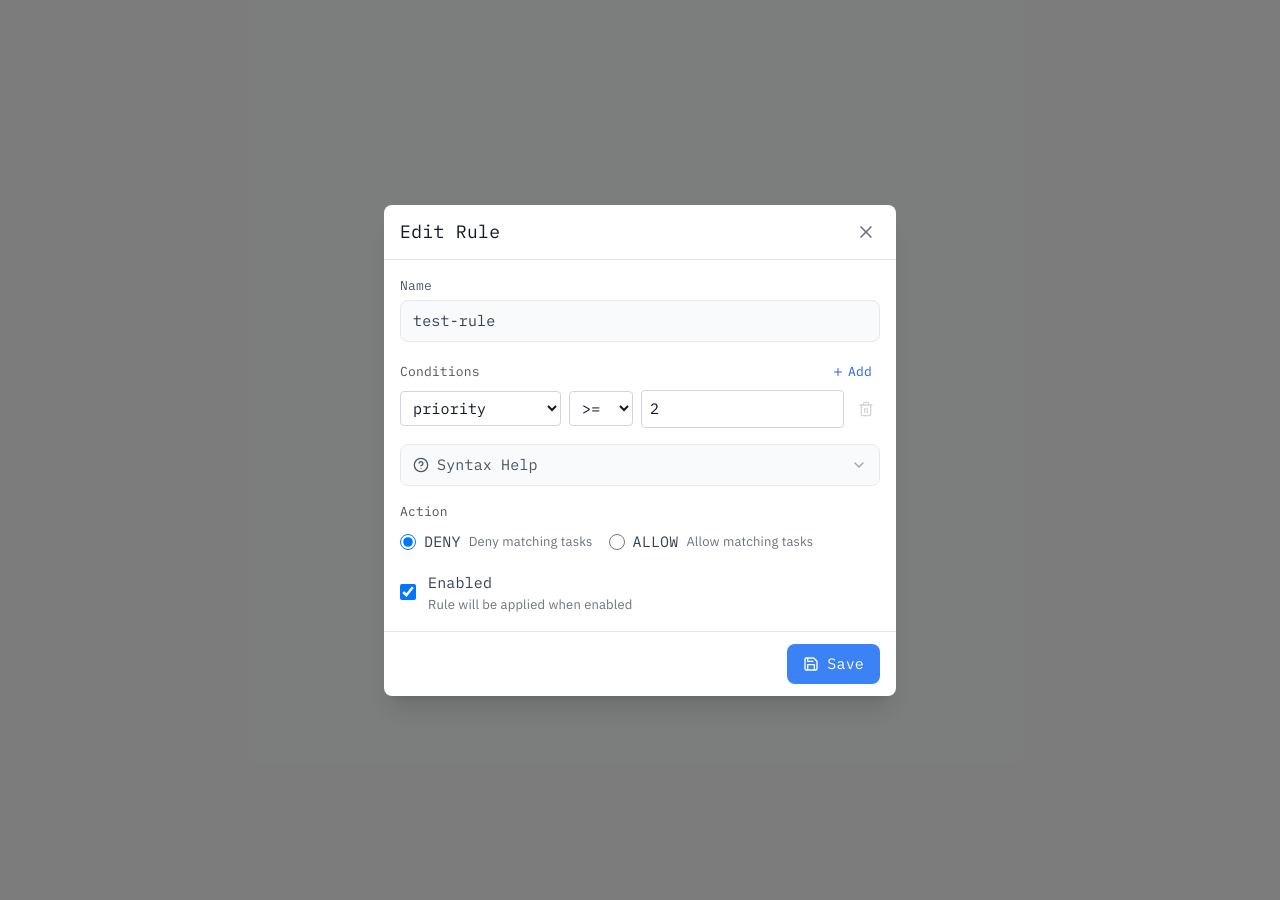
Test case: EditRuleModal › syntax help toggle › collapses syntax help when clicked again
The width and height of the screenshot is (1280, 900).
Click the button "Syntax Help" at (487, 464), box [401,444,879,484]
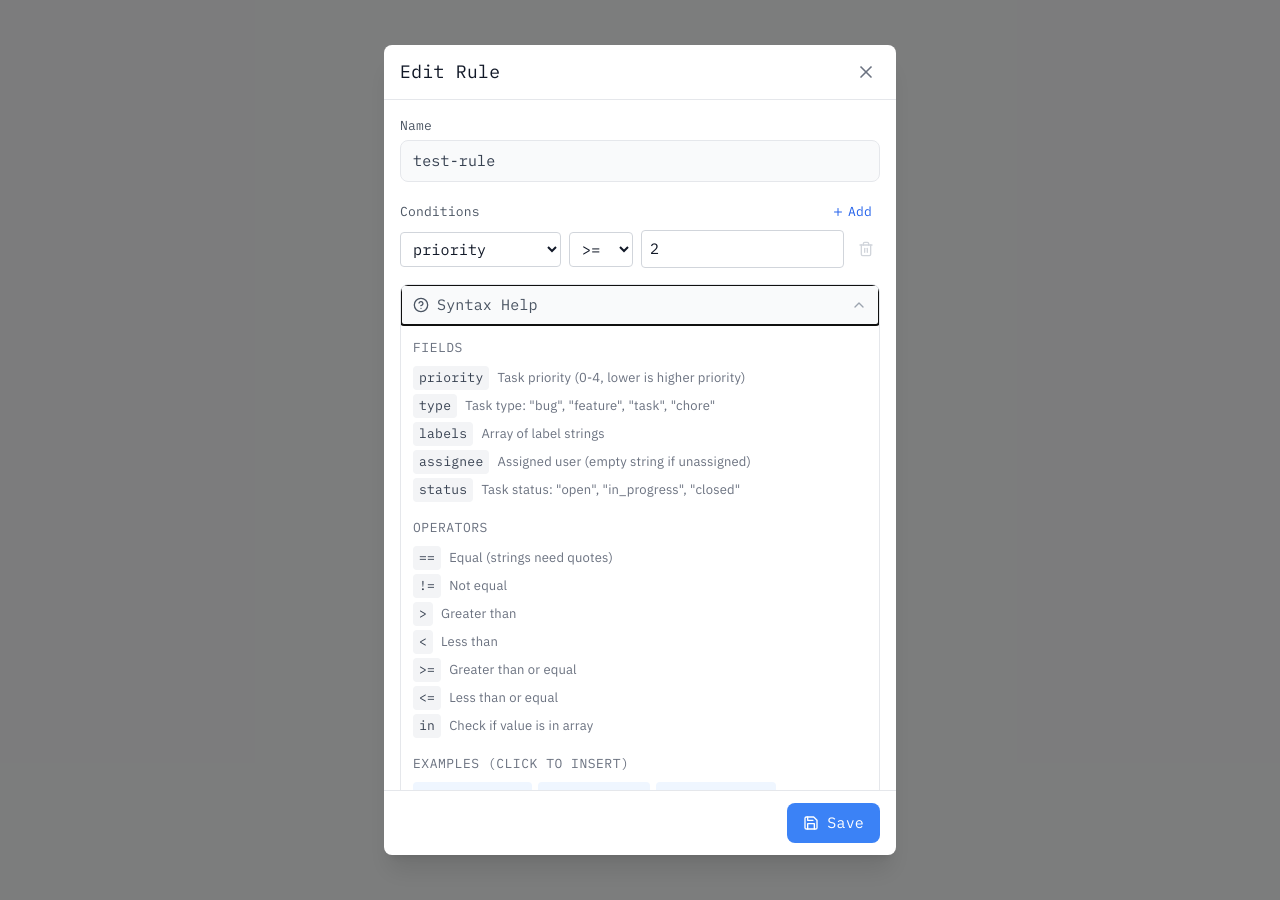
Expected: the heading "Fields" is shown, [413,339,463,356]
Click the button "Syntax Help" at (487, 304), box [401,285,879,325]
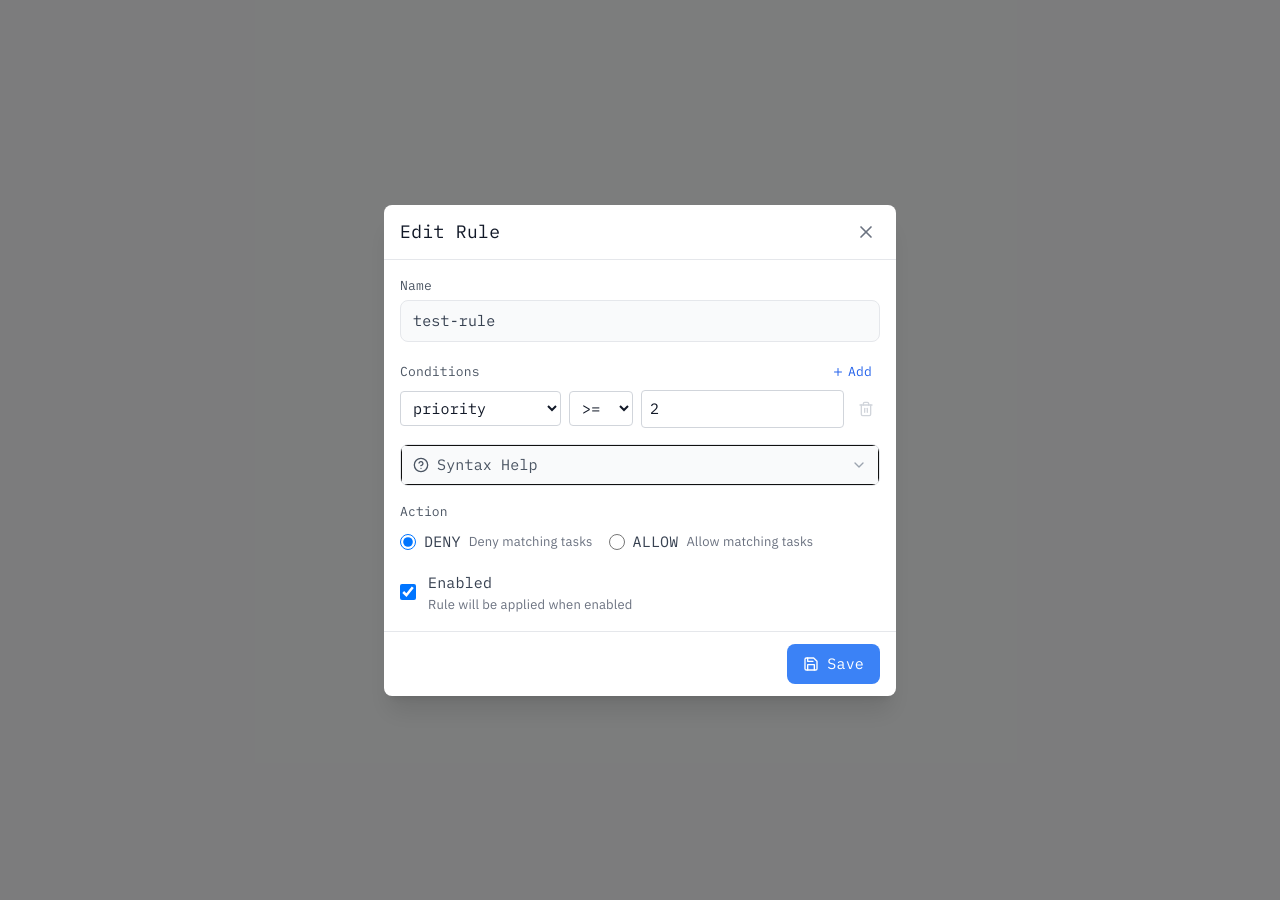
Expected: the heading "Fields" is gone
